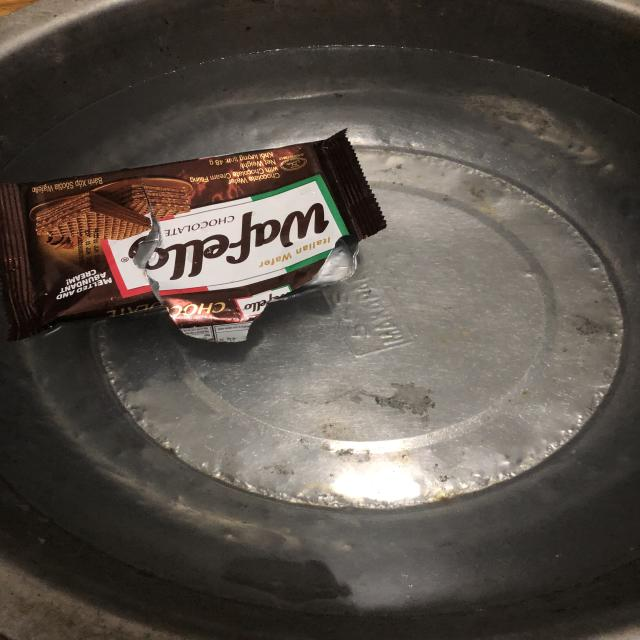Plastic Wrapper: (0, 114, 419, 365)
